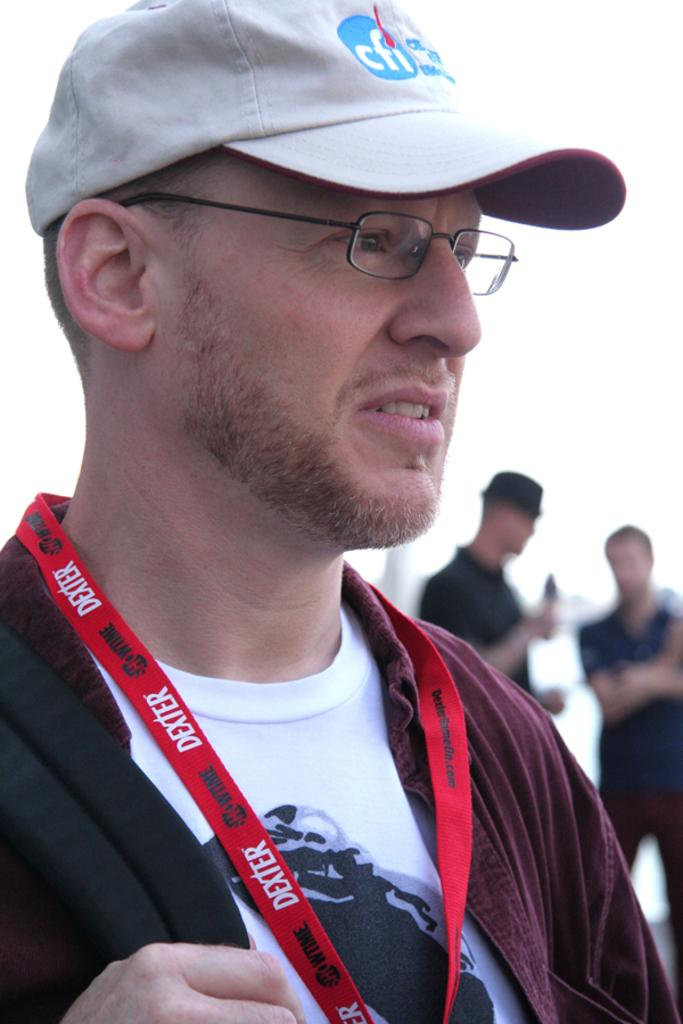Hat: (19, 0, 626, 236), (476, 472, 544, 512)
